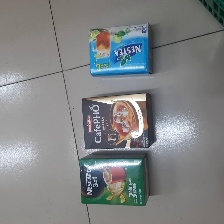CF pho: (80, 91, 155, 152)
Nes Rang: (77, 151, 152, 208)
Nestea: (87, 23, 154, 76)
